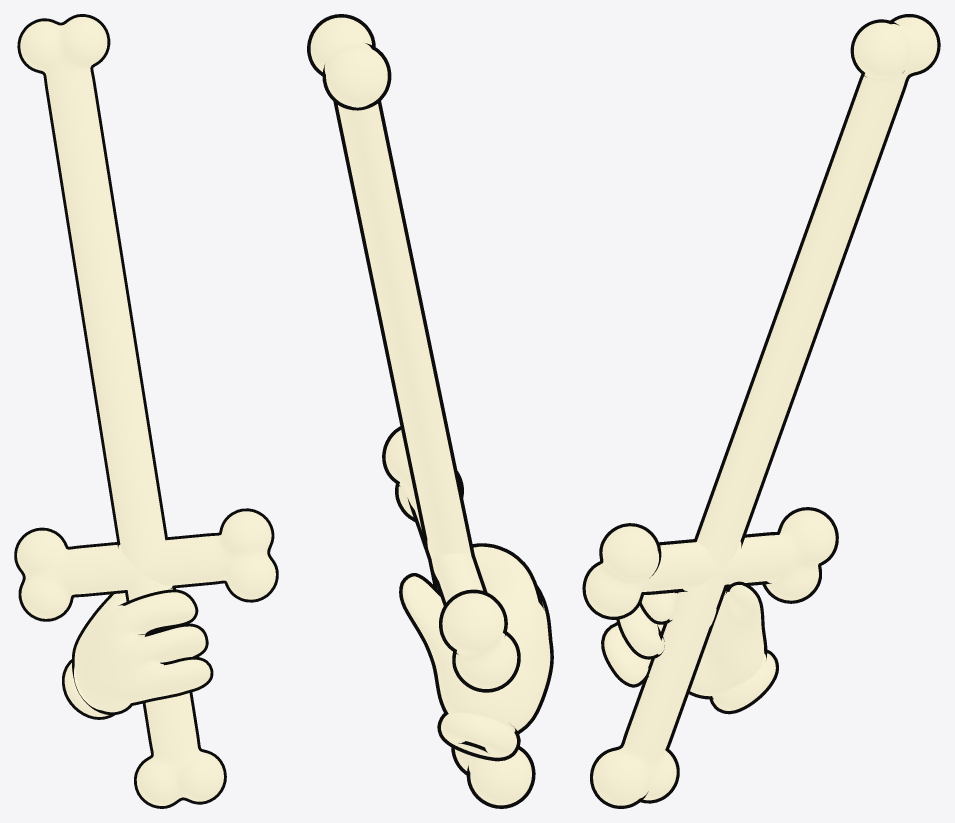
Rendered from RH.BIOLOGY.SKELETON.glb.
The picture shows the model from 3 angles, left to right: view 1: azimuth 30°, elevation 25°; view 2: azimuth 150°, elevation 25°; view 3: azimuth 270°, elevation 25°; orthographic projection. The views are drawn at different scales.
Parts seen in each view (by area): view 1: RH.BIOLOGY.SKELETON; view 2: RH.BIOLOGY.SKELETON; view 3: RH.BIOLOGY.SKELETON.
Boxes of the visible parts, box(x1,y1,x2,y2) form: RH.BIOLOGY.SKELETON: box(14, 14, 278, 808); RH.BIOLOGY.SKELETON: box(307, 14, 553, 808); RH.BIOLOGY.SKELETON: box(582, 14, 940, 808).
Bounding box in the file's own units: 0.7095 × 2.72 × 1.11.
